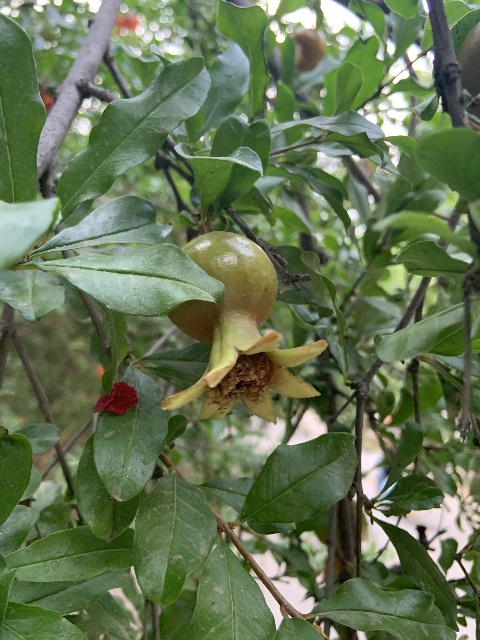mid-growth: (159, 230, 326, 425)
